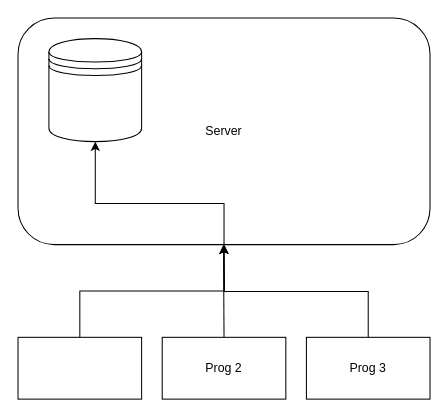
This 448x417 diagram has some shape labels left out. The shapes that lost their labels are listed below. From the top down, each one's centre as x and y in pixels, then its label:
At (95,90): "Data".
At (79,367): "Prog 1".
